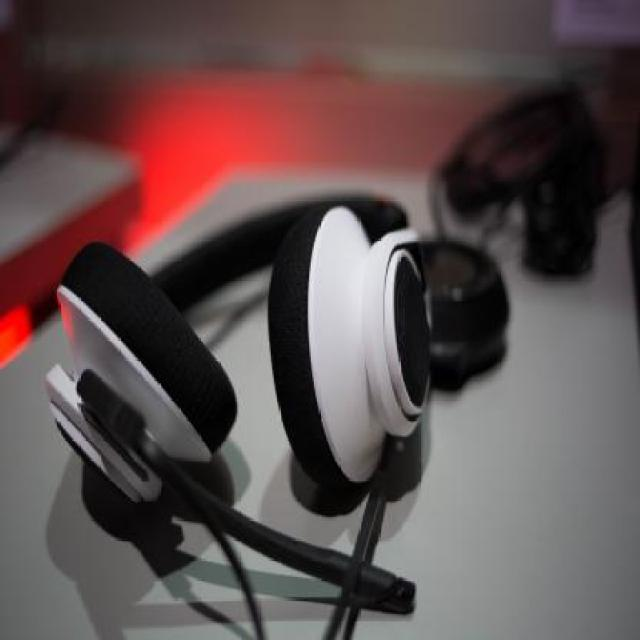earphone: (74, 152, 454, 578)
